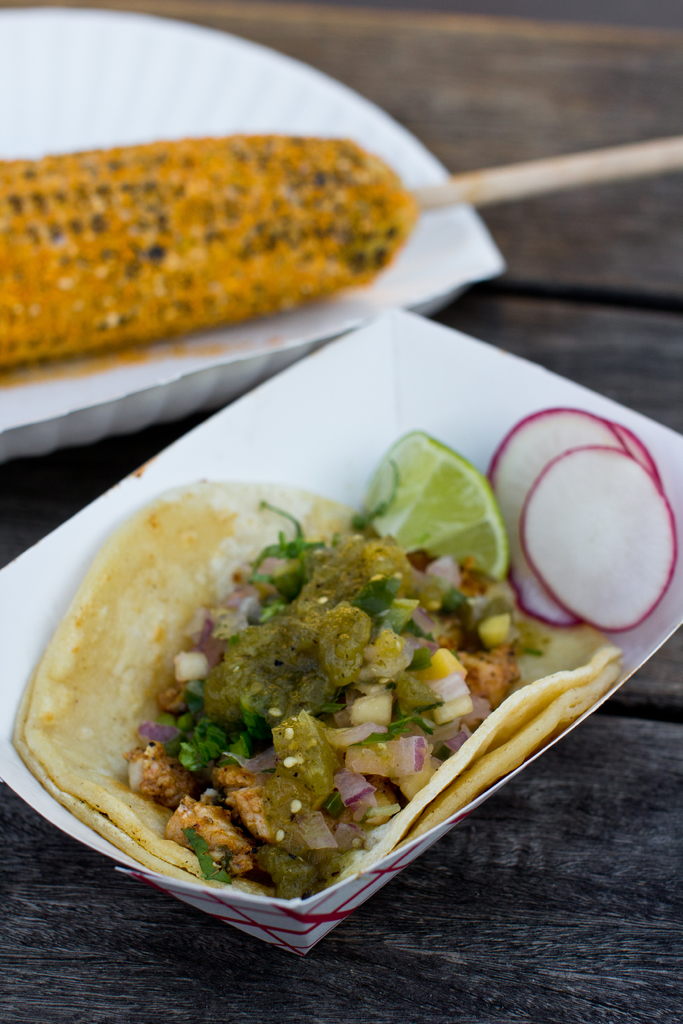taco: (21, 456, 607, 927)
